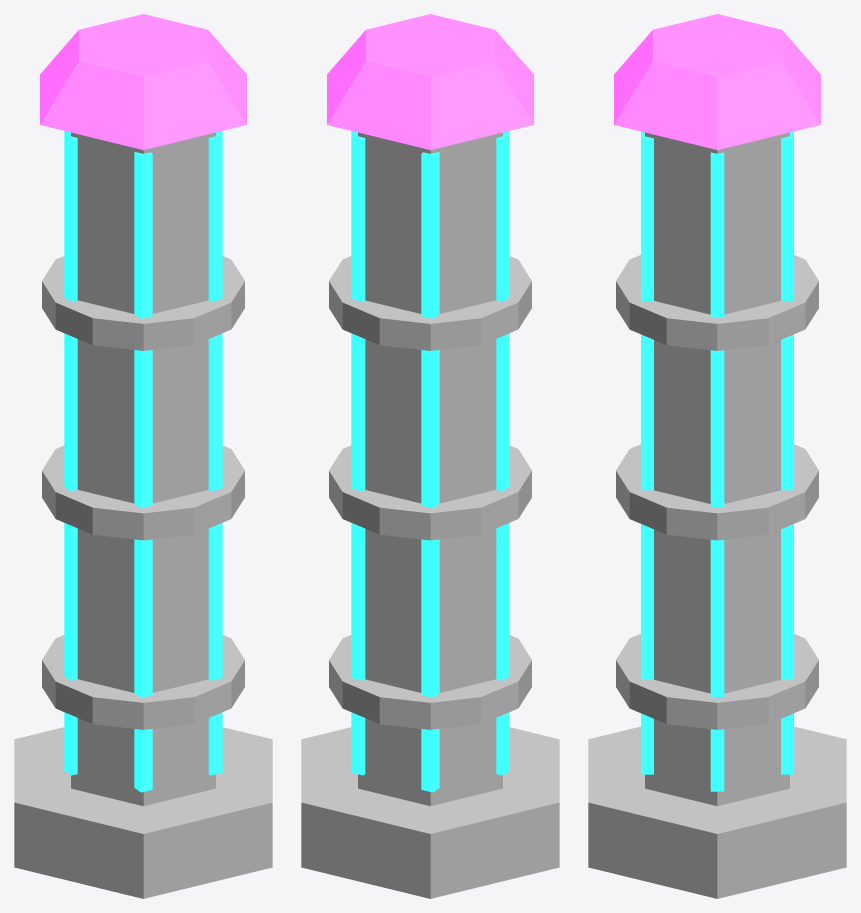
3 views of the same model, side by side, from view 1: azimuth 30°, elevation 25°; view 2: azimuth 150°, elevation 25°; view 3: azimuth 270°, elevation 25° (orthographic).
Parts seen in each view (by area): view 1: Neon_NeonPillar_Standard; view 2: Neon_NeonPillar_Standard; view 3: Neon_NeonPillar_Standard.
Boxes of the visible parts, <box> form: Neon_NeonPillar_Standard: <box>14,14,272,898</box>; Neon_NeonPillar_Standard: <box>301,14,559,898</box>; Neon_NeonPillar_Standard: <box>588,14,846,898</box>.
Bounding box in the file's own units: 1 × 2.92 × 0.866.
